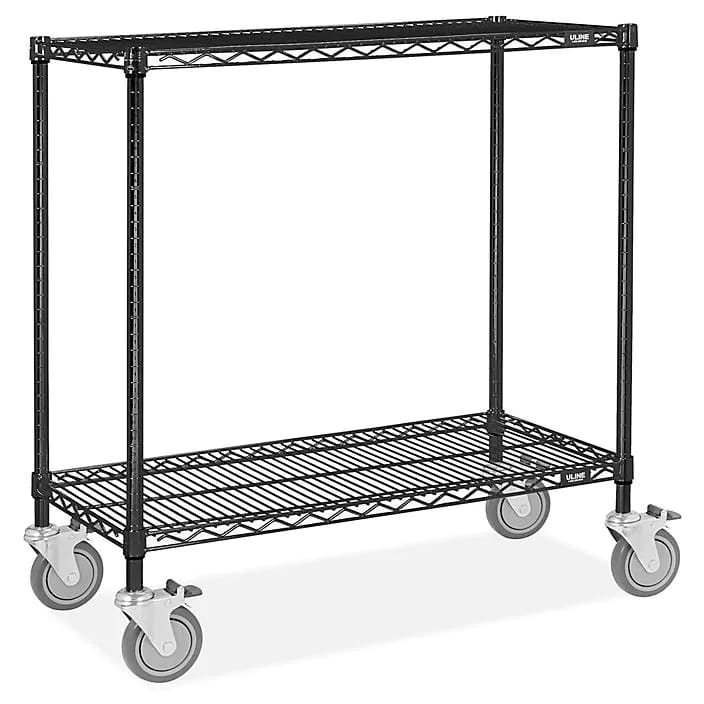Carts: (23, 14, 685, 681)
